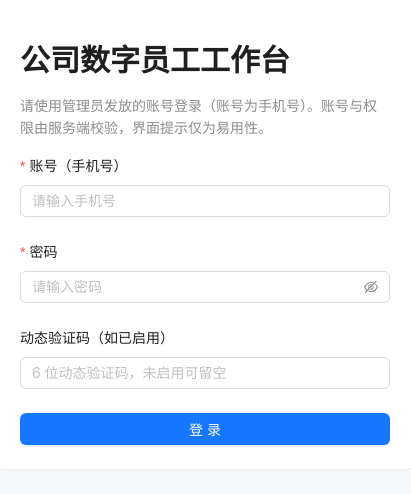
Test: LoginPage › 429 限流：显示限流文案（不重试、不假装成功）
In the field labelled "账号（手机号）": (205, 201) [20,185,390,217], type "13800000000"
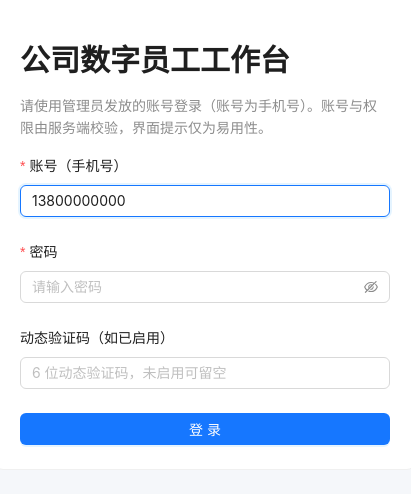
In the password field labelled "密码": (196, 287) [32,276,360,298], type "pw-123456"
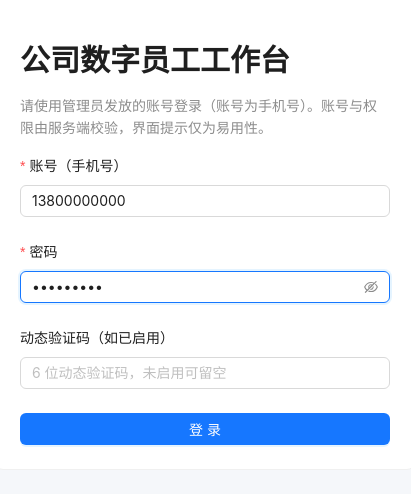
Click the button "登 录": (205, 429) [20,413,390,445]
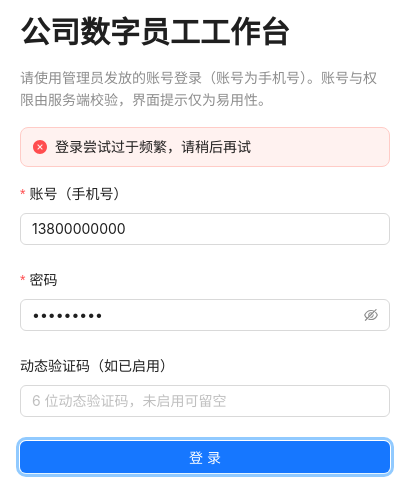
Check: the text "登录尝试过于频繁，请稍后再试" is shown, box [55,138,251,155]
